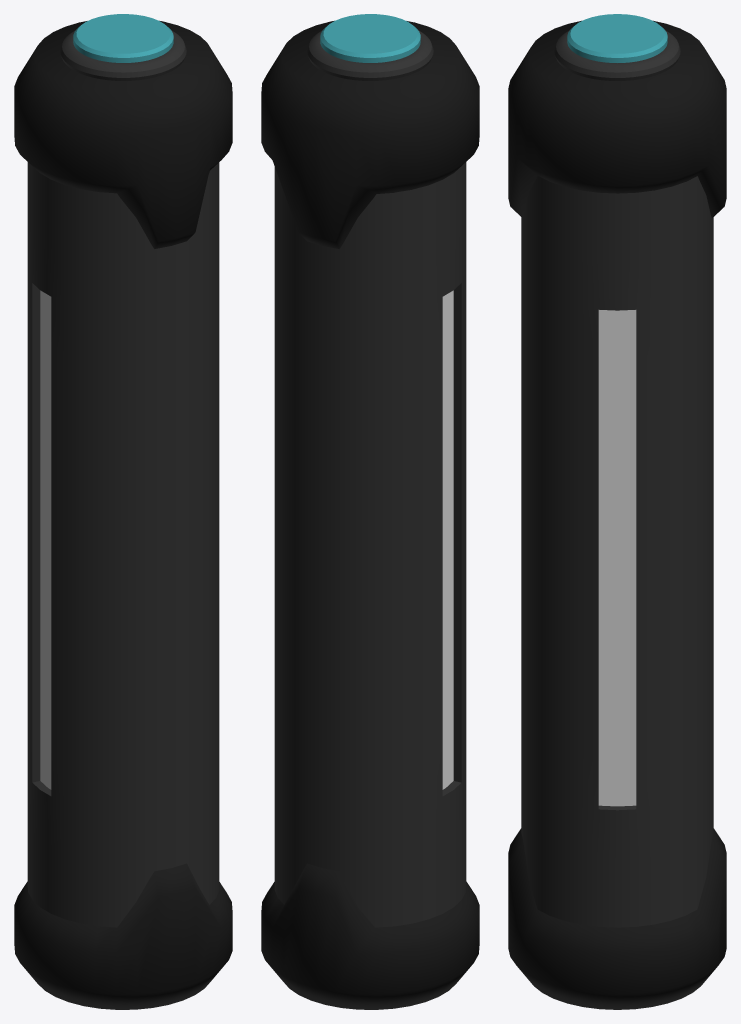
Rendered from epipen_small.fbx.
3 renders of one model, left to right at view 1: azimuth 30°, elevation 25°; view 2: azimuth 150°, elevation 25°; view 3: azimuth 270°, elevation 25°, orthographic.
Parts seen in each view (by area): view 1: body, lids, light, button, button rim; view 2: body, lids, light, button, button rim; view 3: body, lids, light, button, button rim.
Boxes of the visible parts, left/top/right/bottom form: body: left=27, top=162, right=219, bottom=927; lids: left=14, top=20, right=232, bottom=1009; light: left=40, top=290, right=51, bottom=789; button: left=73, top=14, right=173, bottom=62; button rim: left=60, top=30, right=186, bottom=80; body: left=274, top=162, right=466, bottom=927; lids: left=261, top=20, right=479, bottom=1009; light: left=442, top=290, right=453, bottom=789; button: left=320, top=14, right=420, bottom=62; button rim: left=307, top=30, right=433, bottom=80; body: left=521, top=175, right=713, bottom=927; lids: left=508, top=20, right=726, bottom=1009; light: left=598, top=310, right=636, bottom=806; button: left=567, top=14, right=667, bottom=62; button rim: left=554, top=30, right=680, bottom=80.
Size of the model in its own units: 10.24 by 49.61 by 10.24.
